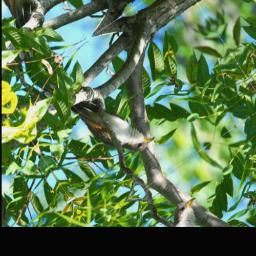Cuckoo: (70, 78, 157, 172)
